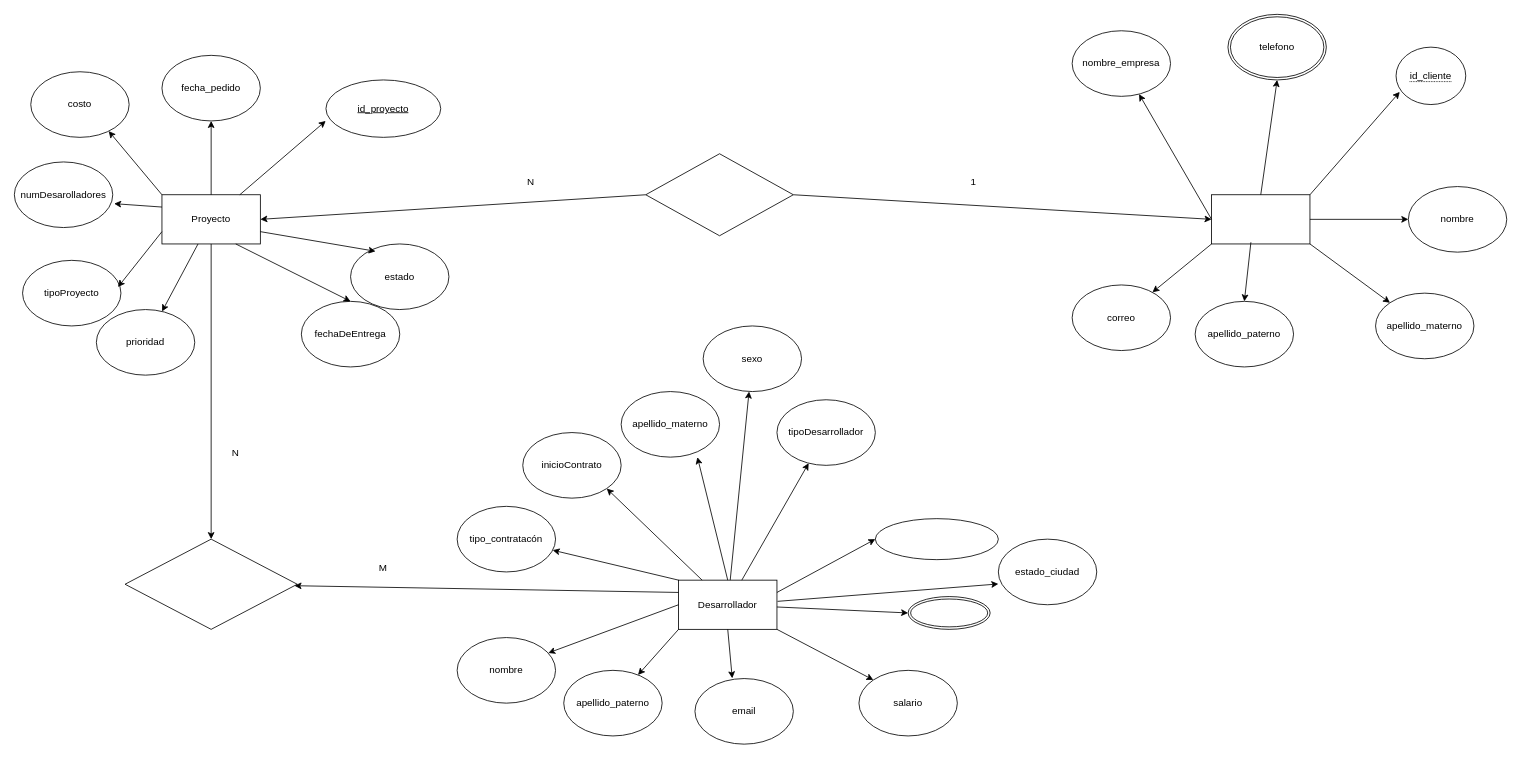
This 1521x759 diagram has some shape labels left out. Each missing label, with the centre of its shape:
Cliente: the point at 1260,219
id_desarrollador: the point at 936,539
Muchos desarrolladores tienen muchos proyectos: the point at 210,583
teléfono: the point at 948,612
Un cliente tienne muchos proyectos: the point at 719,194
